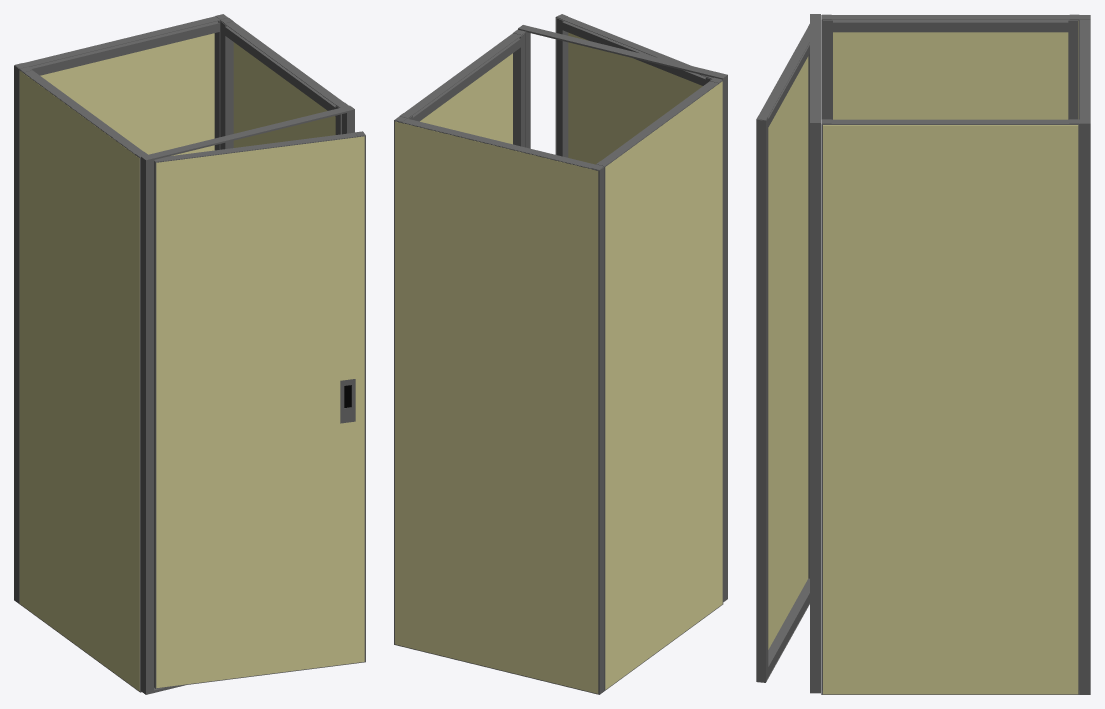
Rendered from Closet 38.glb.
3 views of the same model, side by side, from view 1: azimuth 30°, elevation 25°; view 2: azimuth 150°, elevation 25°; view 3: azimuth 270°, elevation 25° (orthographic). The views are drawn at different scales.
Visible parts, largest first — view 1: Closet; view 2: Closet; view 3: Closet.
Boxes of the visible parts, bbox=[...] form: Closet: bbox=[14, 14, 365, 694]; Closet: bbox=[394, 14, 727, 694]; Closet: bbox=[756, 14, 1090, 694].
Size of the model in its own units: 0.9697 by 2.37 by 1.25.
